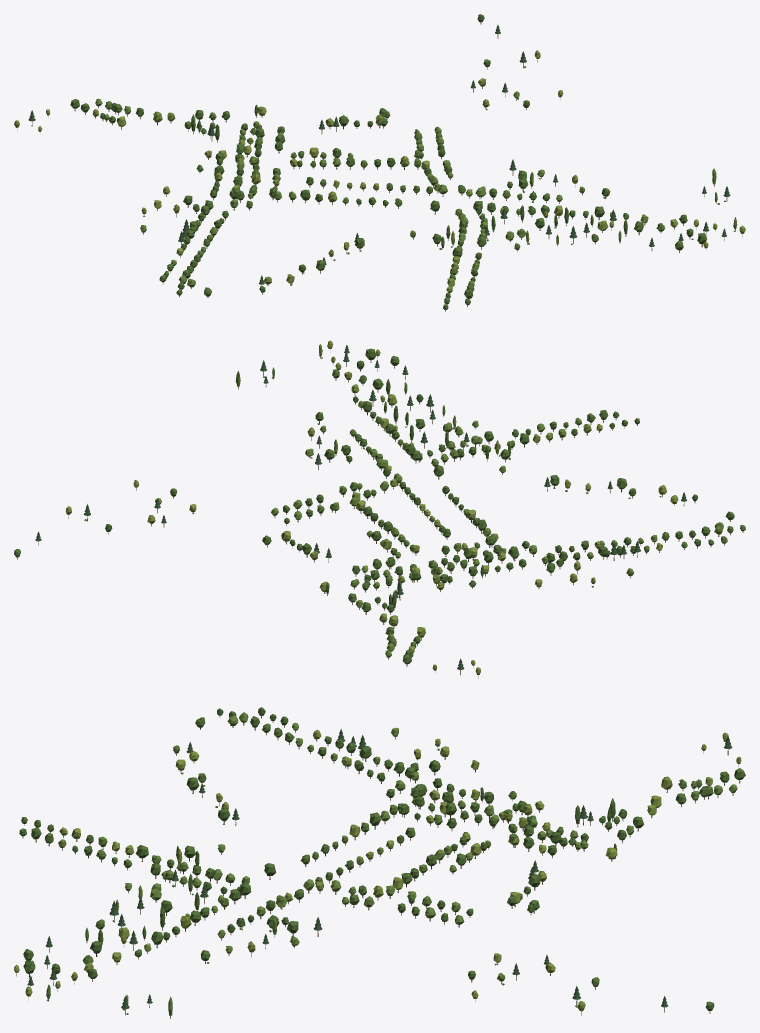
Rendered from Natura_2_1.fbx.
The picture shows the model from 3 angles, top to bottom: view 1: azimuth 30°, elevation 25°; view 2: azimuth 150°, elevation 25°; view 3: azimuth 270°, elevation 25°; orthographic projection. The views are drawn at different scales.
Size of the model in its own units: 491 by 18.28 by 499.
